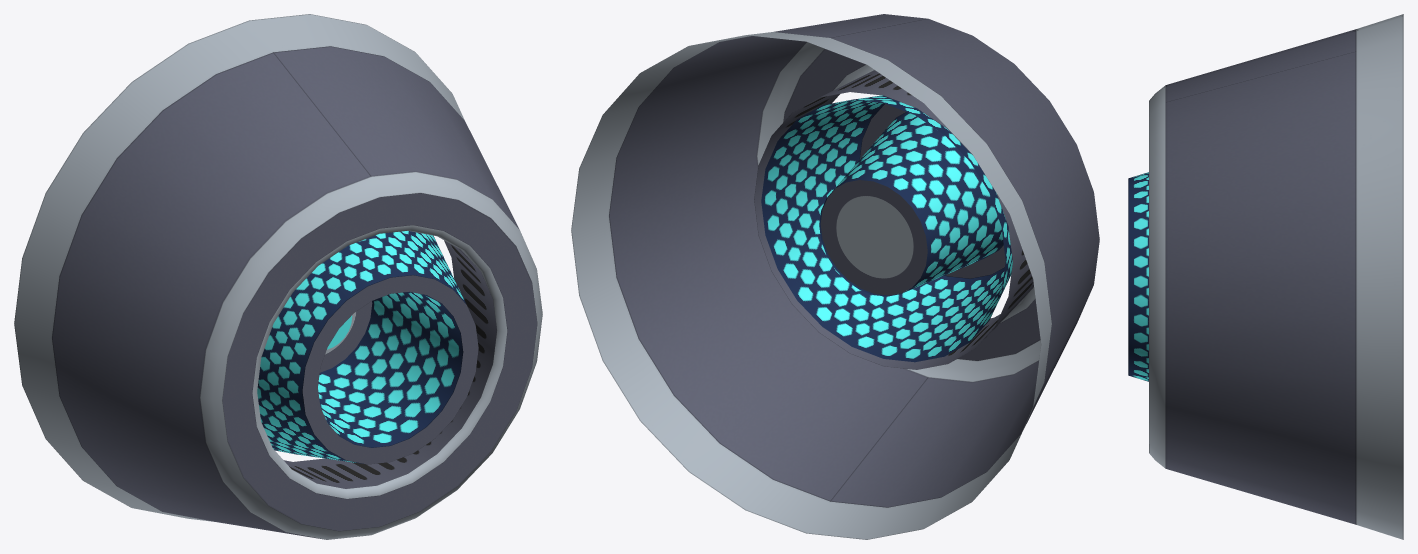
File: Cruiser_Reactor_01.FBX
3 views of the same model, side by side, from view 1: azimuth 30°, elevation 25°; view 2: azimuth 150°, elevation 25°; view 3: azimuth 270°, elevation 25° (orthographic). The views are drawn at different scales.
Visible parts, largest first — view 1: Cruiser_Reactor_01; view 2: Cruiser_Reactor_01; view 3: Cruiser_Reactor_01.
Part boxes in pixels (x1=…): Cruiser_Reactor_01: x1=14, y1=14, x2=542, y2=539; Cruiser_Reactor_01: x1=571, y1=14, x2=1099, y2=539; Cruiser_Reactor_01: x1=1128, y1=14, x2=1403, y2=539.
Size of the model in its own units: 7.89 by 7.89 by 4.11.
Materials: 3 (3 with a texture image).
